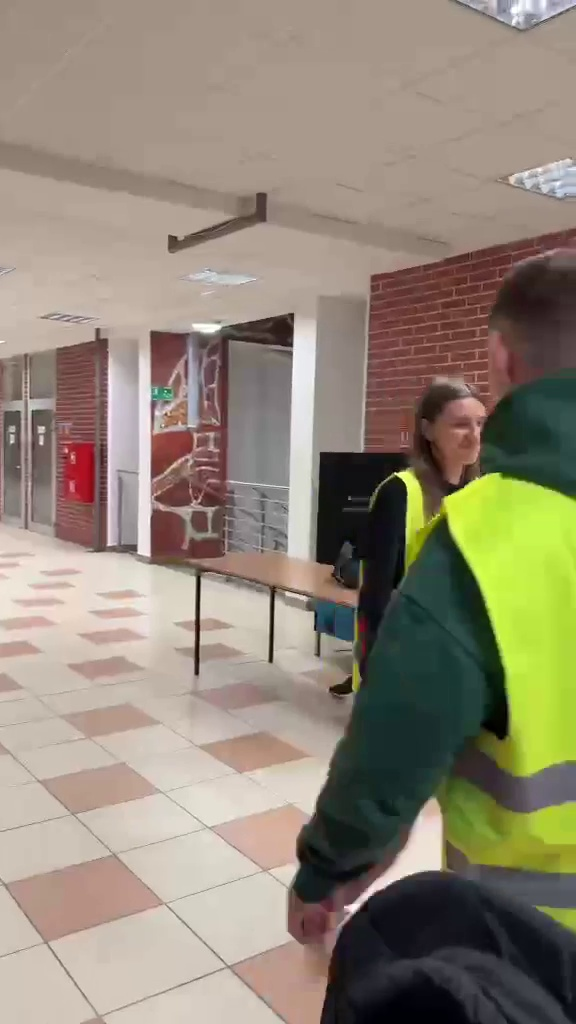vest: (450, 243, 576, 917), (363, 369, 478, 583)
